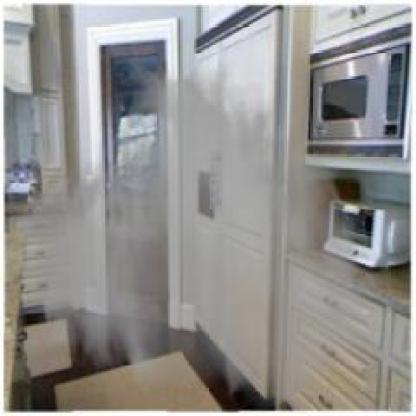Smoke: (15, 50, 375, 413)
